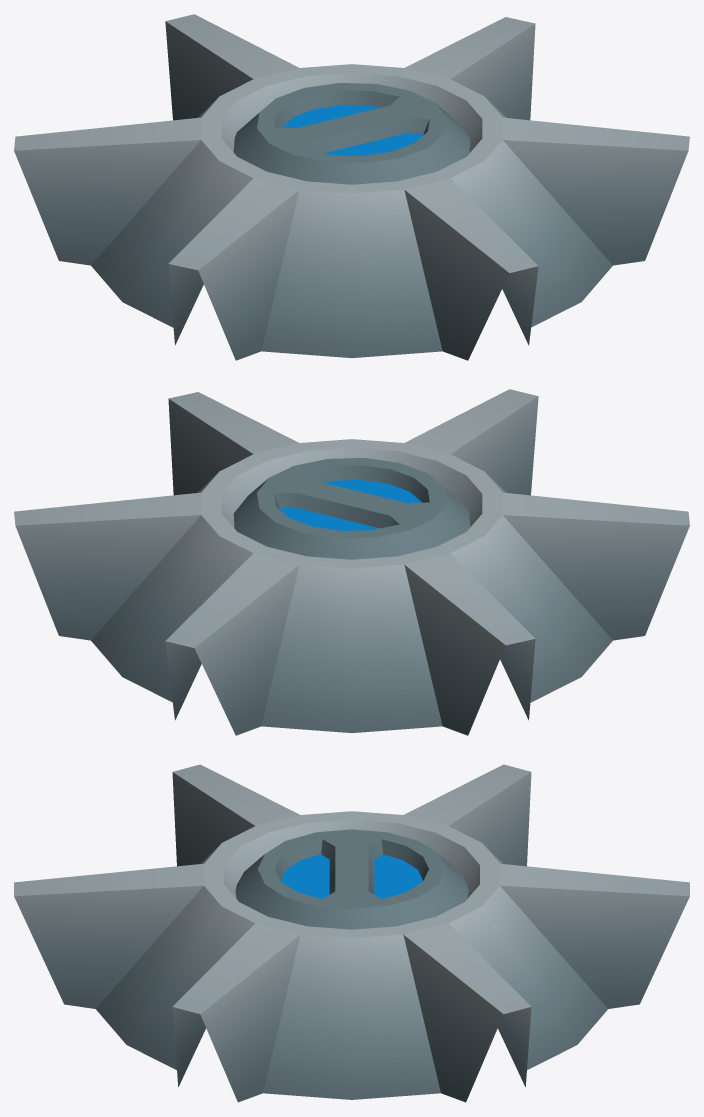
File: Generator_rotor_010.fbx
3 renders of one model, top to bottom at view 1: azimuth 30°, elevation 25°; view 2: azimuth 150°, elevation 25°; view 3: azimuth 270°, elevation 25°, orthographic.
Visible parts, largest first — view 1: Generator_rotor_010; view 2: Generator_rotor_010; view 3: Generator_rotor_010.
Boxes of the visible parts, x1,y1,x2,y2 form: Generator_rotor_010: (14,14,689,360); Generator_rotor_010: (14,389,689,735); Generator_rotor_010: (14,764,689,1102).
Bounding box in the file's own units: 135 × 155 × 45.62.
